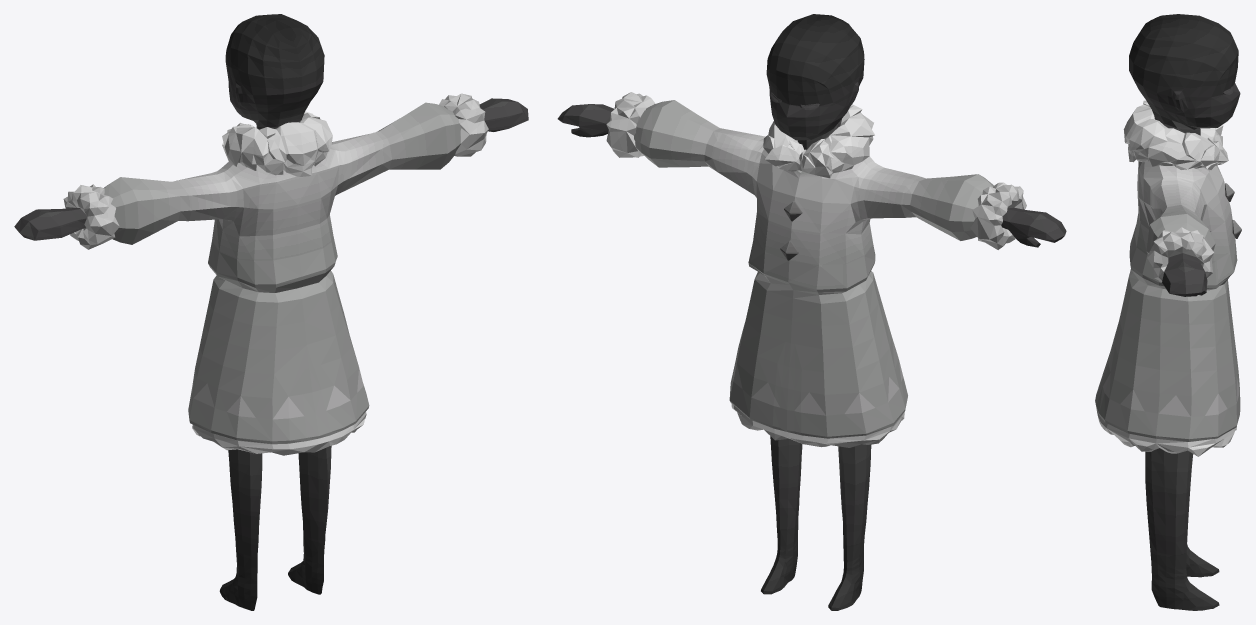
File: CharSkyKid_Body_FeastCoat.glb
3 views of the same model, side by side, from view 1: azimuth 30°, elevation 25°; view 2: azimuth 150°, elevation 25°; view 3: azimuth 270°, elevation 25° (orthographic).
Visible parts, largest first — view 1: CharSkyKid_Body_FeastCoat; view 2: CharSkyKid_Body_FeastCoat; view 3: CharSkyKid_Body_FeastCoat.
Part boxes in pixels (<box>): CharSkyKid_Body_FeastCoat: <box>14,14,528,610</box>; CharSkyKid_Body_FeastCoat: <box>557,14,1066,610</box>; CharSkyKid_Body_FeastCoat: <box>1095,14,1241,610</box>.
Bounding box in the file's own units: 13.83 × 14.94 × 3.48.
Materials: 1 (1 with a texture image).
